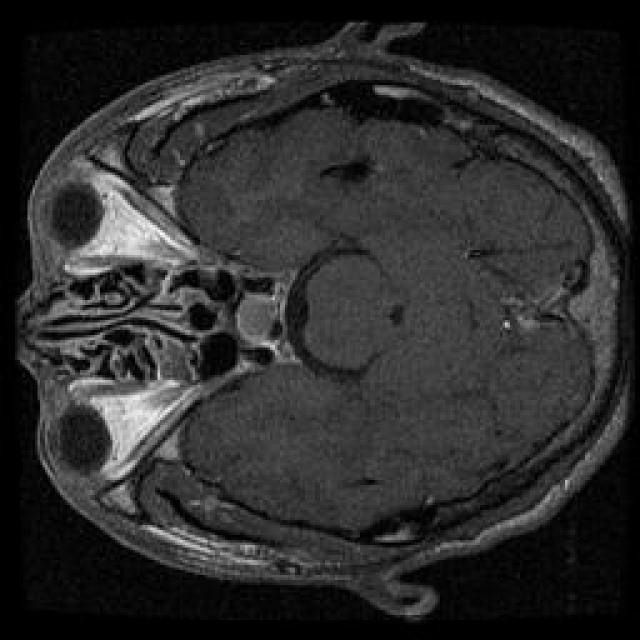Pituitary: (235, 276, 284, 364)
